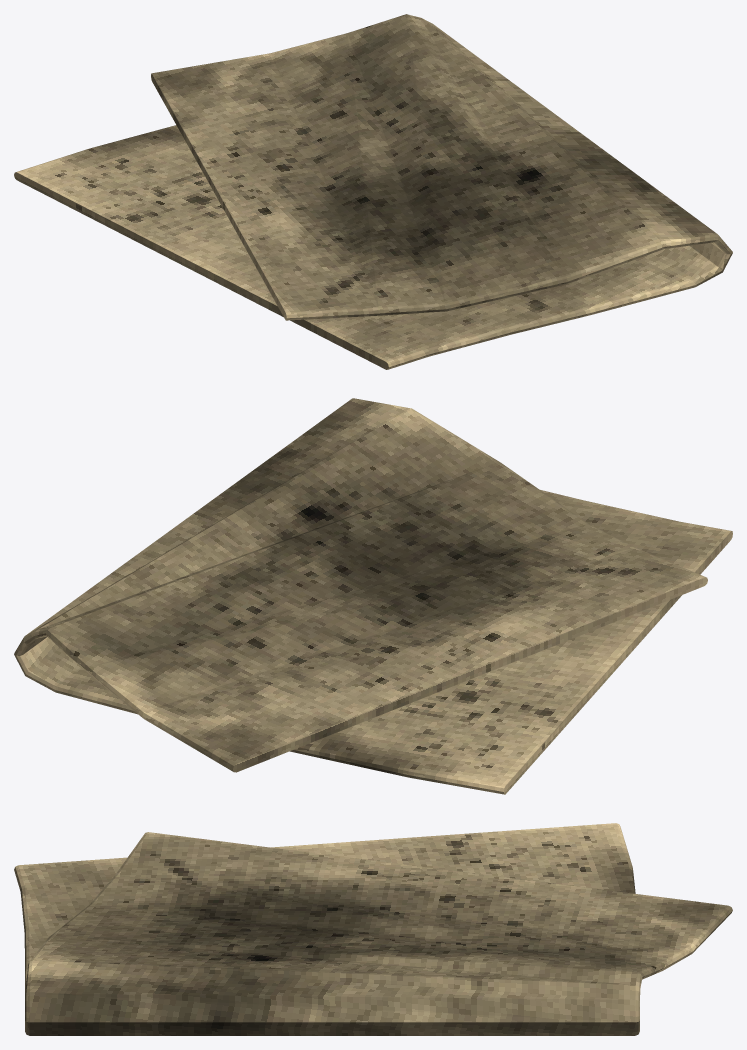
File: shop_rag.glb
3 views of the same model, one above another, from view 1: azimuth 30°, elevation 25°; view 2: azimuth 150°, elevation 25°; view 3: azimuth 270°, elevation 25° (orthographic). The views are drawn at different scales.
Visible parts, largest first — view 1: shop_rag; view 2: shop_rag; view 3: shop_rag.
Boxes of the visible parts, left/top/right/bottom form: shop_rag: left=14, top=14, right=732, bottom=369; shop_rag: left=14, top=398, right=732, bottom=794; shop_rag: left=14, top=823, right=732, bottom=1035.
Size of the model in its own units: 0.2593 by 0.0344 by 0.356.
Materials: 1 (1 with a texture image).
